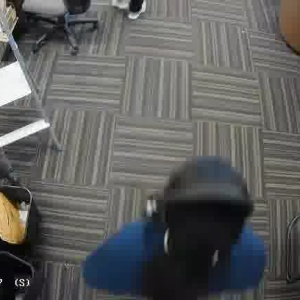person: (84, 162, 263, 298)
